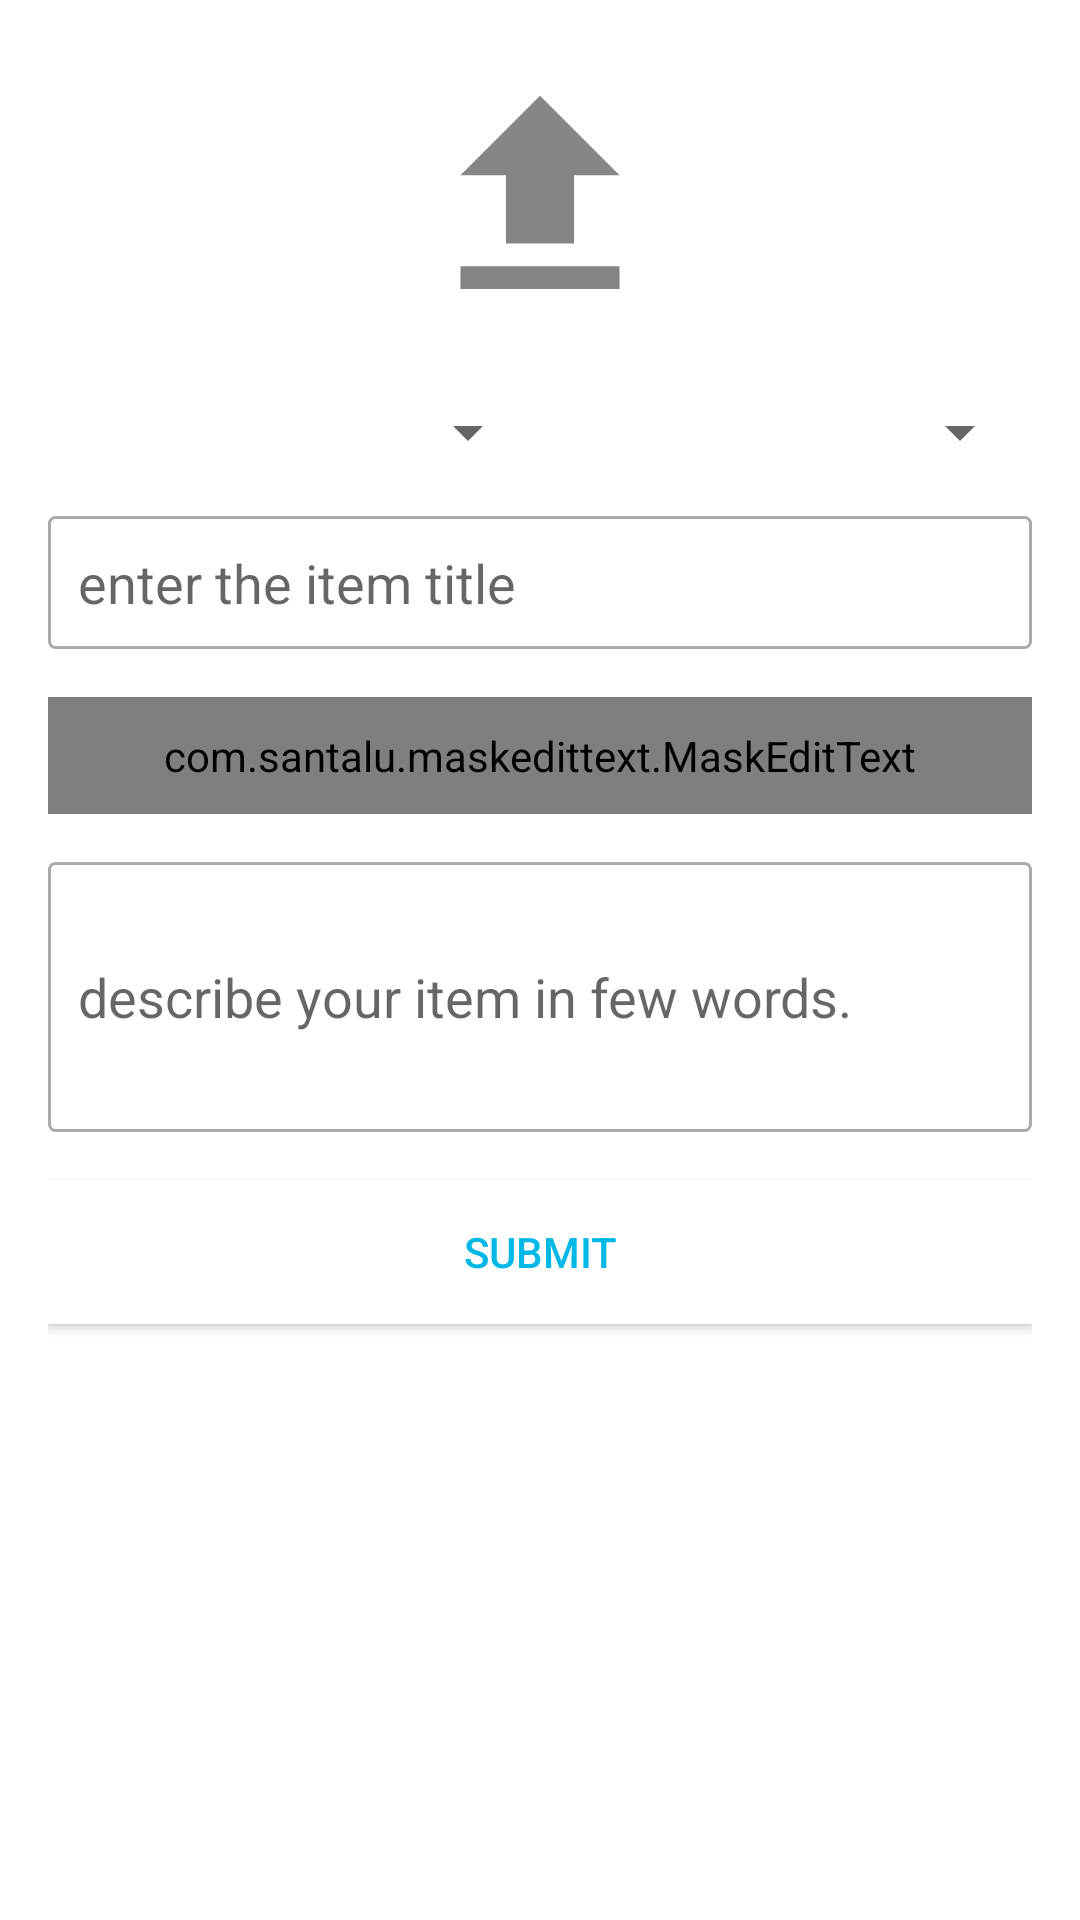

Screen size 1080px x 1920px. Icon name, then its center in pixels as point (x, y):
upload: point (540, 192)
